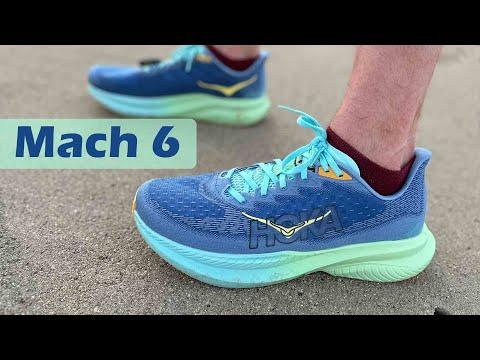hoka logo: (226, 194, 356, 254), (190, 66, 267, 108)
